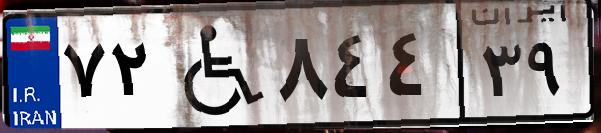2: (110, 28, 158, 98)
3: (475, 38, 525, 113)
4: (385, 28, 445, 110), (330, 28, 385, 110)
7: (57, 26, 110, 100)
8: (270, 28, 330, 110)
9: (525, 38, 570, 115)
ژ (معلولین و جانبازان): (158, 12, 270, 120)
